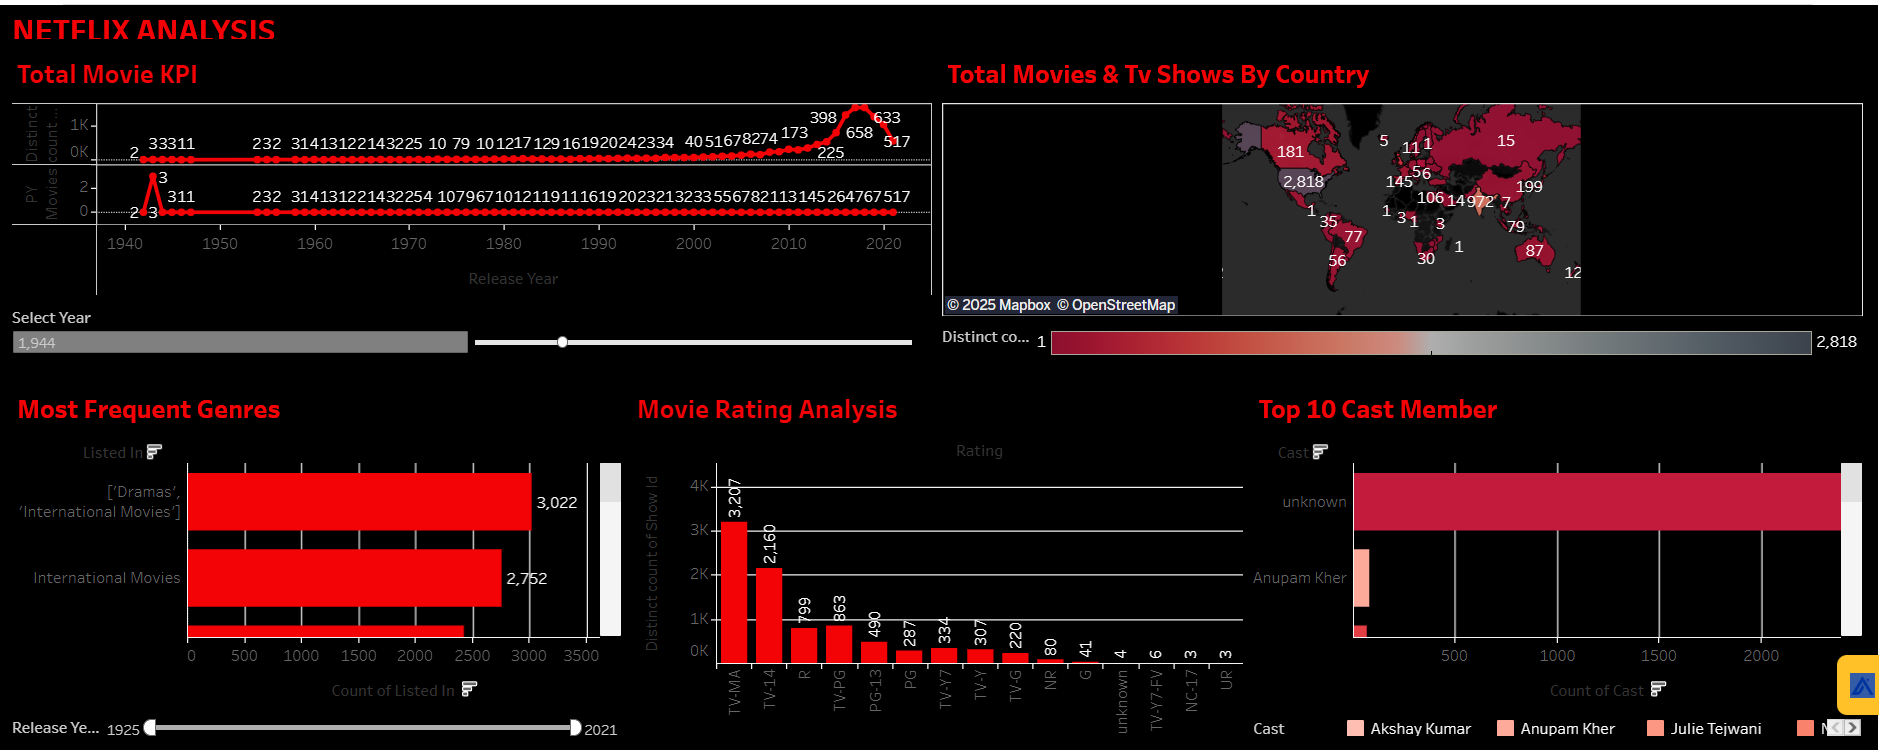

The dashboard page shown, as its layout file describes it:
{"tool":"tableau","page":{"name":"Dashboard 1","canvas":[1000,1000],"units":"permille","ordinal":0},"visuals":[{"type":"title","box":[4.8,9.9,990.3,39.5]},{"type":"worksheet","title":"Total Movie KPI","mark":"Line","rows":["show_id","Calculation_1750774395020292100"],"cols":["release_year"],"box":[4.8,49.5,494.9,375.3]},{"type":"worksheet","title":"Country Flimed","mark":"Multipolygon","box":[499.7,49.5,495.5,395.1]},{"type":"parameter","param":"[Parameters].[Parameter 1]","box":[4.8,424.8,494.9,75.2]},{"type":"legend","title":"Country Flimed","param":"[federated.1blkxt50kzpwyo14e1o450cd3wxk].[ctd:show_id:qk]","box":[499.7,444.5,495.5,55.5]},{"type":"worksheet","title":"Top 10 Genres","mark":"Bar","rows":["listed_in"],"cols":["listed_in"],"box":[4.8,500,330.1,449.3]},{"type":"worksheet","title":"Movie Rating Analysis","mark":"Automatic","rows":["show_id"],"cols":["rating"],"box":[334.9,500,330.1,490.1]},{"type":"worksheet","title":"Top 10 cast Members","mark":"Automatic","rows":["cast"],"cols":["cast"],"box":[665.1,500,330.1,449.3]},{"type":"filter","title":"Top 10 Genres","param":"[federated.1blkxt50kzpwyo14e1o450cd3wxk].[none:release_year:qk]","box":[4.8,949.3,330.1,40.8]},{"type":"legend","title":"Top 10 cast Members","param":"[federated.1blkxt50kzpwyo14e1o450cd3wxk].[none:cast:nk]","box":[665.1,949.3,330.1,40.8]}]}

Visuals, with their boxes on the dashboard's canvas, which has no fixed pixel size, in thousandths of its width and height (x1, y1, x2, y2). These are canvas units, not pixel positions in the 1879x750 screenshot, which may show the page scaled, cropped or inside an application window:
title: bbox=[5, 10, 995, 49]
"Total Movie KPI" worksheet (Line marks): bbox=[5, 50, 500, 425]
"Country Flimed" worksheet (Multipolygon marks): bbox=[500, 50, 995, 445]
parameter: bbox=[5, 425, 500, 500]
"Country Flimed" legend: bbox=[500, 444, 995, 500]
"Top 10 Genres" worksheet (Bar marks): bbox=[5, 500, 335, 949]
"Movie Rating Analysis" worksheet: bbox=[335, 500, 665, 990]
"Top 10 cast Members" worksheet: bbox=[665, 500, 995, 949]
"Top 10 Genres" filter: bbox=[5, 949, 335, 990]
"Top 10 cast Members" legend: bbox=[665, 949, 995, 990]
